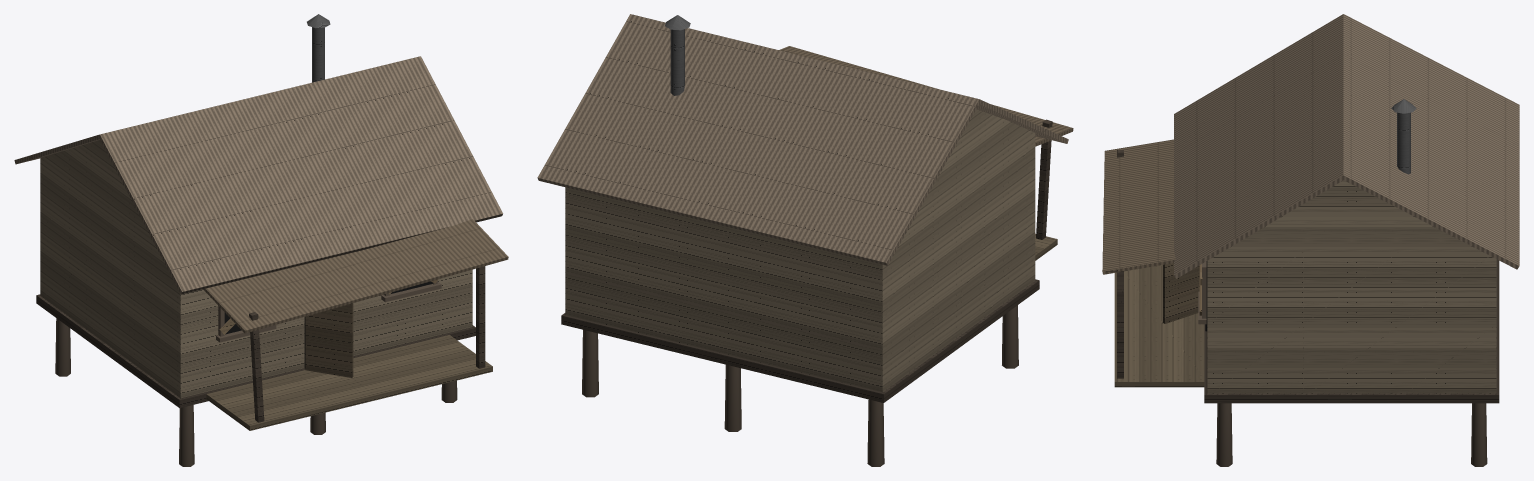
Rendered from casa_de_madeira_velha.glb.
The picture shows the model from 3 angles, left to right: view 1: azimuth 30°, elevation 25°; view 2: azimuth 150°, elevation 25°; view 3: azimuth 270°, elevation 25°; orthographic projection. The views are drawn at different scales.
Visible parts, largest first — view 1: casa_de_madeira_velha, casa_de_madeira_velha_liso; view 2: casa_de_madeira_velha, casa_de_madeira_velha_liso; view 3: casa_de_madeira_velha, casa_de_madeira_velha_liso.
Boxes of the visible parts, <box> form: casa_de_madeira_velha: <box>14,14,508,430</box>; casa_de_madeira_velha_liso: <box>55,281,457,466</box>; casa_de_madeira_velha: <box>537,14,1073,402</box>; casa_de_madeira_velha_liso: <box>582,305,1018,466</box>; casa_de_madeira_velha: <box>1102,14,1519,403</box>; casa_de_madeira_velha_liso: <box>1198,261,1487,466</box>.
Size of the model in its own units: 6.6 by 6.54 by 7.21.
4 materials, 3 textured.
